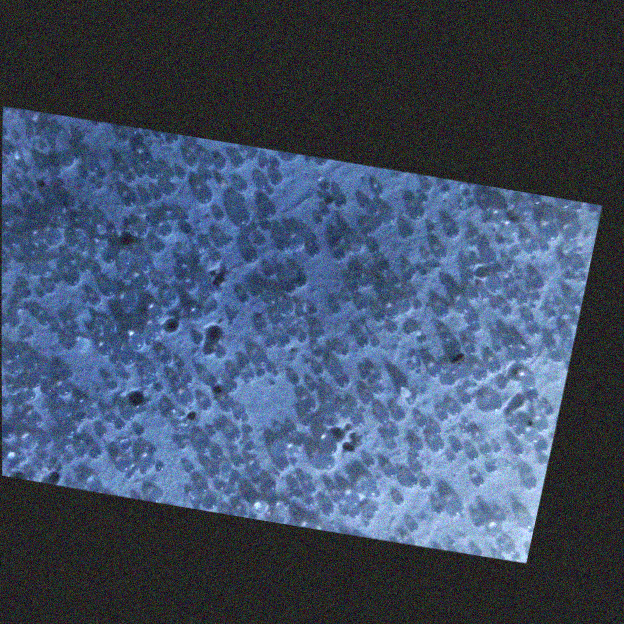GrassBeadSeg: (88, 233, 557, 478), (127, 348, 455, 515), (123, 293, 377, 495), (181, 214, 357, 391), (177, 272, 413, 404), (12, 300, 149, 490), (5, 234, 102, 489), (203, 247, 358, 387), (174, 421, 369, 523), (279, 299, 368, 511), (12, 189, 184, 280), (466, 270, 554, 416), (2, 303, 70, 451), (242, 355, 388, 421), (23, 351, 173, 415), (9, 188, 89, 303), (107, 320, 232, 391), (350, 282, 473, 354), (79, 397, 162, 502), (323, 509, 516, 554), (54, 331, 144, 421), (26, 324, 111, 414), (208, 432, 313, 504), (375, 490, 505, 545), (9, 324, 118, 389), (365, 424, 436, 520), (341, 407, 518, 445), (296, 228, 371, 314), (431, 425, 503, 514), (217, 157, 343, 207), (70, 211, 155, 285), (447, 389, 533, 462), (477, 367, 528, 489), (232, 210, 557, 229), (462, 378, 528, 468), (338, 343, 475, 386), (235, 431, 391, 466), (82, 171, 189, 222), (3, 158, 65, 246), (237, 412, 300, 497), (78, 380, 274, 407), (385, 469, 483, 522), (340, 510, 506, 541), (528, 205, 574, 310), (38, 146, 186, 176), (213, 212, 264, 295), (118, 443, 198, 495), (2, 132, 129, 164), (369, 208, 475, 246), (406, 476, 485, 526), (185, 284, 283, 324), (291, 417, 338, 500), (419, 268, 479, 331), (230, 367, 308, 414), (360, 480, 464, 514), (371, 370, 453, 413), (2, 181, 35, 287), (63, 153, 128, 206), (180, 445, 242, 499), (425, 185, 569, 208), (410, 483, 477, 532), (508, 208, 527, 379), (46, 238, 115, 285), (2, 127, 44, 203), (375, 247, 445, 292), (403, 226, 488, 263), (490, 463, 521, 561), (290, 457, 347, 509), (2, 401, 83, 437), (216, 161, 267, 218), (111, 356, 264, 375), (482, 443, 508, 554), (360, 291, 414, 343), (421, 253, 486, 296), (368, 214, 434, 256), (284, 248, 345, 293), (296, 437, 341, 498), (3, 241, 79, 275), (65, 289, 116, 339), (115, 136, 198, 165), (362, 231, 404, 287), (59, 220, 71, 414), (241, 209, 267, 297), (349, 466, 393, 517), (203, 154, 275, 184), (466, 251, 496, 323), (482, 361, 526, 410), (121, 158, 255, 174), (58, 381, 122, 413), (229, 308, 415, 319), (267, 187, 322, 224), (463, 245, 517, 282), (334, 303, 379, 346), (420, 442, 462, 488), (119, 251, 136, 364), (470, 421, 524, 456), (273, 172, 298, 247), (142, 152, 204, 182), (3, 248, 38, 301), (48, 230, 80, 286), (175, 419, 197, 500), (370, 375, 398, 438), (298, 265, 381, 286), (188, 255, 219, 309), (287, 317, 336, 351), (92, 160, 175, 180), (386, 311, 414, 370), (274, 338, 317, 376), (241, 144, 273, 195), (67, 438, 131, 463), (218, 321, 262, 357), (42, 242, 107, 266), (213, 251, 273, 277), (79, 225, 141, 250), (100, 198, 159, 224), (324, 477, 370, 510), (95, 275, 124, 327), (89, 159, 100, 295), (366, 455, 396, 504), (348, 286, 411, 309), (139, 157, 177, 195), (4, 425, 66, 448), (225, 317, 233, 495), (238, 266, 276, 303), (424, 191, 516, 206), (145, 448, 221, 466), (374, 388, 396, 450), (10, 327, 54, 358), (184, 350, 222, 385), (494, 442, 533, 476), (44, 180, 64, 246), (322, 179, 367, 208), (488, 380, 502, 473), (90, 252, 114, 306), (41, 312, 76, 349), (388, 416, 427, 449), (38, 422, 77, 455), (341, 333, 425, 348), (258, 234, 362, 246), (193, 332, 216, 386), (9, 333, 32, 387), (103, 342, 165, 362), (31, 317, 52, 376), (374, 185, 383, 321), (21, 296, 39, 364), (504, 213, 525, 271), (4, 367, 17, 460), (462, 392, 501, 423), (2, 314, 71, 331), (479, 448, 547, 465), (200, 379, 238, 409), (370, 242, 437, 259), (142, 409, 170, 449), (29, 122, 84, 142), (70, 320, 103, 353), (279, 515, 369, 527), (232, 160, 269, 189), (516, 405, 551, 435), (217, 422, 254, 450), (357, 321, 398, 346), (5, 152, 27, 197), (409, 503, 444, 531), (128, 292, 145, 349), (33, 216, 70, 242), (181, 378, 212, 409), (290, 315, 310, 363), (247, 424, 297, 443), (292, 349, 321, 381), (252, 449, 290, 473), (43, 390, 78, 416), (215, 446, 238, 485), (210, 444, 237, 477), (306, 351, 405, 360), (90, 256, 101, 336), (262, 227, 297, 252), (10, 360, 42, 387), (145, 342, 163, 389), (349, 383, 382, 408), (289, 434, 304, 489), (179, 242, 212, 267), (3, 415, 42, 436), (419, 196, 510, 205), (303, 406, 346, 425), (466, 416, 514, 433), (169, 360, 186, 408), (305, 487, 333, 516), (377, 310, 412, 333), (2, 327, 18, 377), (126, 187, 168, 206), (119, 129, 172, 144), (164, 413, 186, 449), (128, 445, 157, 472), (396, 494, 437, 513), (203, 170, 240, 191), (361, 368, 369, 465), (78, 426, 102, 458), (507, 277, 540, 300), (518, 298, 540, 332), (468, 312, 479, 379), (57, 443, 102, 459), (499, 513, 517, 553), (215, 157, 280, 168), (289, 363, 323, 384), (16, 401, 58, 418), (35, 231, 51, 275), (259, 318, 285, 345), (23, 142, 46, 172), (177, 177, 185, 262), (50, 393, 76, 419), (216, 475, 261, 490), (234, 458, 289, 470), (39, 447, 83, 462), (145, 375, 217, 384), (392, 274, 409, 312), (308, 374, 348, 390), (9, 348, 38, 370), (86, 407, 135, 420), (285, 474, 306, 504), (137, 405, 152, 447), (137, 175, 162, 200), (266, 482, 314, 495), (526, 445, 540, 489), (251, 466, 276, 490), (86, 405, 99, 451), (13, 133, 30, 168), (246, 425, 290, 438), (110, 355, 181, 363), (97, 425, 139, 438), (356, 304, 398, 317), (43, 244, 59, 278), (309, 208, 325, 242), (23, 413, 38, 449), (448, 443, 502, 453), (230, 477, 297, 485), (201, 155, 245, 167), (368, 247, 389, 272), (464, 378, 507, 390), (199, 466, 218, 493), (301, 307, 317, 339), (131, 441, 148, 471), (404, 280, 421, 310), (14, 169, 44, 186), (114, 420, 125, 466), (278, 444, 298, 469), (3, 200, 22, 226), (504, 305, 533, 322), (297, 308, 311, 343), (389, 278, 416, 296), (90, 231, 108, 258), (185, 465, 207, 487), (115, 419, 145, 435), (98, 169, 146, 179), (53, 177, 131, 183), (472, 295, 487, 326), (419, 410, 448, 426), (145, 335, 203, 343), (465, 382, 476, 424), (288, 475, 308, 498), (298, 325, 325, 342), (40, 277, 62, 297), (310, 244, 337, 260), (350, 373, 362, 409), (106, 379, 116, 421), (168, 375, 179, 413), (98, 239, 115, 263), (506, 248, 520, 277), (333, 496, 358, 512), (119, 461, 159, 471), (230, 474, 263, 486), (410, 365, 454, 374), (275, 226, 311, 237), (2, 380, 30, 394), (146, 365, 161, 391), (466, 206, 478, 238), (529, 430, 540, 464), (265, 333, 291, 347), (188, 280, 197, 320), (527, 435, 548, 452), (14, 121, 37, 136), (27, 166, 40, 192), (439, 404, 460, 420), (524, 311, 538, 335), (68, 439, 83, 461), (360, 280, 387, 292), (450, 379, 477, 391), (412, 470, 431, 487), (116, 252, 135, 269), (361, 188, 380, 205), (58, 367, 73, 388), (296, 236, 311, 257), (264, 286, 281, 304), (284, 490, 303, 506), (23, 281, 42, 297), (319, 183, 334, 203), (268, 317, 278, 346), (119, 294, 137, 310), (238, 179, 260, 192), (257, 222, 270, 244), (387, 322, 415, 332), (18, 380, 53, 388), (186, 304, 203, 320), (21, 325, 59, 332), (309, 305, 341, 313), (123, 272, 154, 280), (223, 465, 232, 492), (199, 451, 223, 461), (144, 376, 178, 383), (236, 495, 247, 516), (407, 465, 417, 488), (323, 196, 346, 206), (68, 219, 78, 242), (241, 289, 260, 301), (243, 248, 258, 263), (261, 203, 276, 218), (198, 189, 213, 204), (157, 222, 172, 237), (138, 255, 153, 270), (380, 209, 395, 224), (408, 204, 423, 219), (487, 277, 502, 292), (444, 223, 459, 238), (491, 209, 506, 224), (524, 239, 539, 254), (504, 222, 519, 237), (562, 225, 577, 240), (429, 436, 444, 451), (319, 454, 334, 469), (409, 438, 424, 453), (344, 491, 359, 506), (325, 399, 340, 414), (253, 350, 268, 365), (253, 499, 268, 514), (179, 391, 194, 406), (196, 437, 211, 452), (226, 425, 241, 440), (359, 390, 374, 405), (241, 367, 256, 382), (327, 360, 342, 375), (220, 396, 235, 411), (322, 438, 337, 453), (518, 512, 533, 527), (522, 374, 537, 389), (134, 274, 149, 289), (201, 281, 216, 296), (214, 233, 229, 248), (161, 290, 176, 305), (146, 321, 161, 336), (314, 329, 323, 354), (82, 171, 107, 180), (232, 355, 250, 367), (279, 299, 294, 313), (433, 303, 448, 317), (454, 298, 469, 312), (534, 417, 548, 432), (486, 520, 500, 535), (302, 397, 316, 412), (203, 494, 218, 508), (391, 406, 405, 421), (311, 367, 321, 388), (469, 239, 504, 245), (139, 462, 165, 470), (441, 187, 457, 200), (261, 157, 278, 169), (185, 459, 210, 467), (328, 345, 348, 355), (169, 132, 187, 143), (276, 237, 290, 251), (286, 279, 300, 293), (455, 190, 469, 204), (148, 306, 163, 319), (75, 337, 89, 350), (140, 455, 150, 473), (561, 202, 581, 211), (314, 208, 330, 219), (13, 187, 48, 192), (257, 362, 276, 371), (462, 193, 474, 207), (4, 388, 18, 400), (209, 425, 223, 436), (243, 419, 254, 433), (69, 240, 91, 247), (101, 222, 115, 233), (407, 268, 426, 276), (74, 138, 82, 157), (508, 417, 523, 427), (270, 370, 280, 385), (153, 241, 165, 253), (278, 504, 285, 524), (240, 151, 257, 159), (116, 158, 125, 173), (186, 154, 198, 165), (149, 167, 161, 178), (79, 260, 90, 272), (90, 264, 102, 275), (503, 278, 514, 290), (570, 296, 581, 308), (522, 348, 533, 360), (540, 241, 551, 253), (562, 328, 573, 340), (45, 282, 56, 294), (130, 126, 138, 142), (127, 464, 136, 478), (20, 330, 34, 339), (2, 128, 8, 149), (117, 133, 135, 140), (473, 476, 484, 487), (64, 253, 75, 264), (440, 329, 451, 340), (461, 393, 472, 404), (468, 288, 479, 299), (490, 297, 501, 308), (520, 294, 531, 305), (352, 413, 363, 424), (504, 336, 515, 347), (141, 193, 152, 204), (136, 225, 147, 236), (451, 448, 471, 454), (430, 364, 440, 376), (490, 359, 500, 371), (531, 290, 541, 302), (533, 280, 543, 292), (371, 494, 378, 511), (468, 449, 478, 460), (547, 307, 557, 318), (546, 338, 556, 349), (576, 271, 586, 282), (528, 389, 538, 400), (105, 411, 116, 421), (147, 365, 157, 376), (2, 254, 12, 265), (500, 306, 512, 315), (236, 414, 249, 422), (497, 238, 514, 244), (10, 319, 20, 329), (5, 144, 15, 154), (558, 306, 567, 317), (17, 413, 26, 424), (21, 289, 32, 298), (45, 188, 54, 199), (41, 161, 50, 172), (125, 172, 136, 181), (69, 237, 78, 248), (553, 351, 562, 361), (25, 390, 35, 399), (414, 463, 422, 474), (24, 193, 32, 204), (21, 372, 28, 384), (494, 267, 506, 274), (403, 274, 412, 283), (449, 369, 454, 385), (301, 474, 312, 481), (78, 411, 85, 422), (156, 275, 163, 286), (20, 327, 27, 336), (239, 437, 246, 445), (55, 464, 62, 472), (124, 372, 131, 380), (136, 135, 143, 143), (20, 453, 27, 460), (95, 385, 102, 392), (30, 472, 36, 480), (48, 463, 54, 469)
